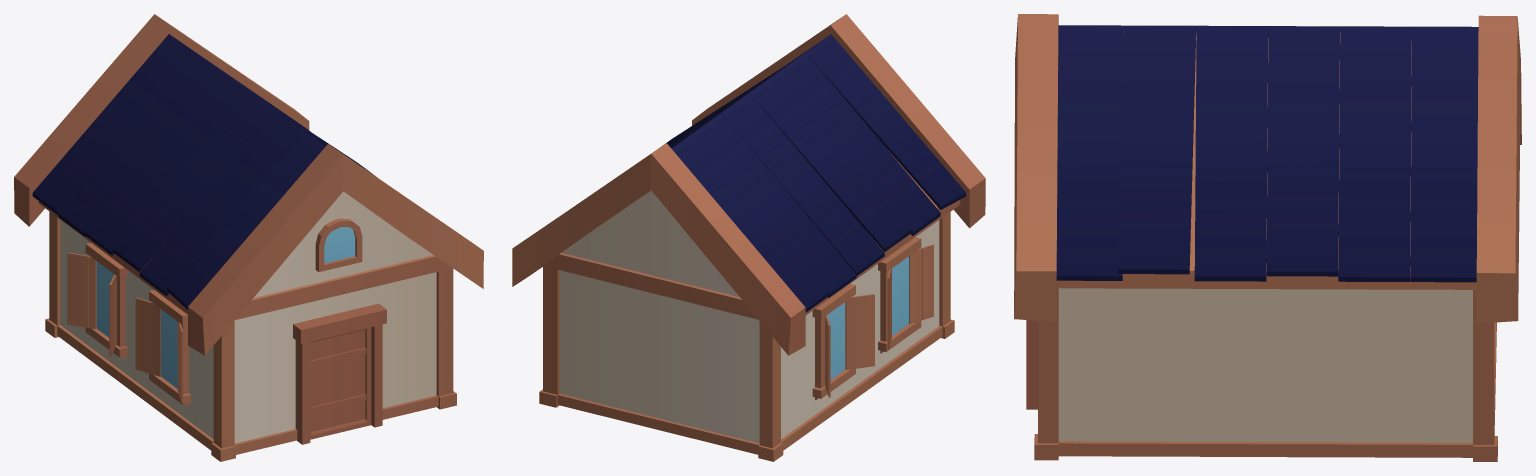
File: Casa_Aldeao.fbx
3 views of the same model, side by side, from view 1: azimuth 30°, elevation 25°; view 2: azimuth 150°, elevation 25°; view 3: azimuth 270°, elevation 25° (orthographic). The views are drawn at different scales.
Parts seen in each view (by area): view 1: Casa_Aldeao.002; view 2: Casa_Aldeao.002; view 3: Casa_Aldeao.002.
Boxes of the visible parts, x1,y1,x2,y2 form: Casa_Aldeao.002: (14, 14, 483, 461); Casa_Aldeao.002: (512, 14, 985, 461); Casa_Aldeao.002: (1014, 14, 1521, 461).
Bounding box in the file's own units: 458 × 439 × 547.
